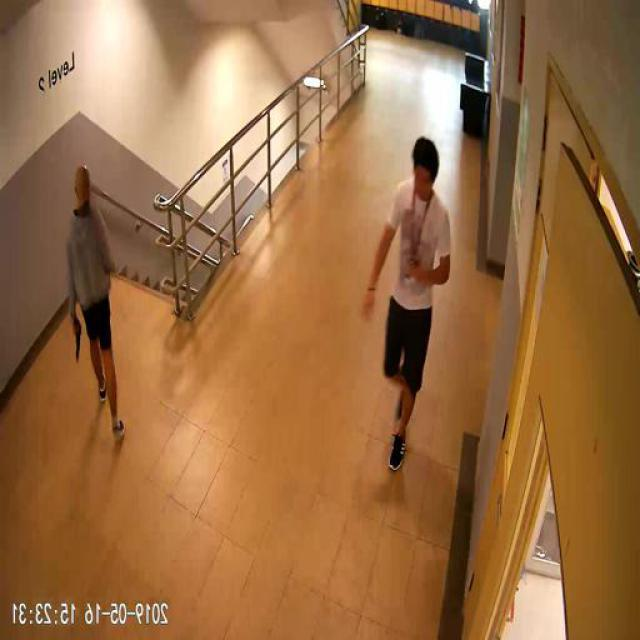Gun: (74, 316, 84, 359)
